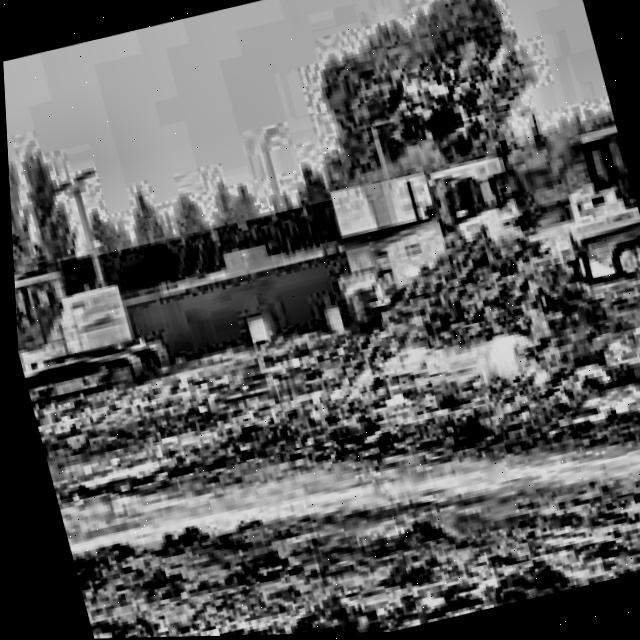excavator: (10, 235, 175, 419)
